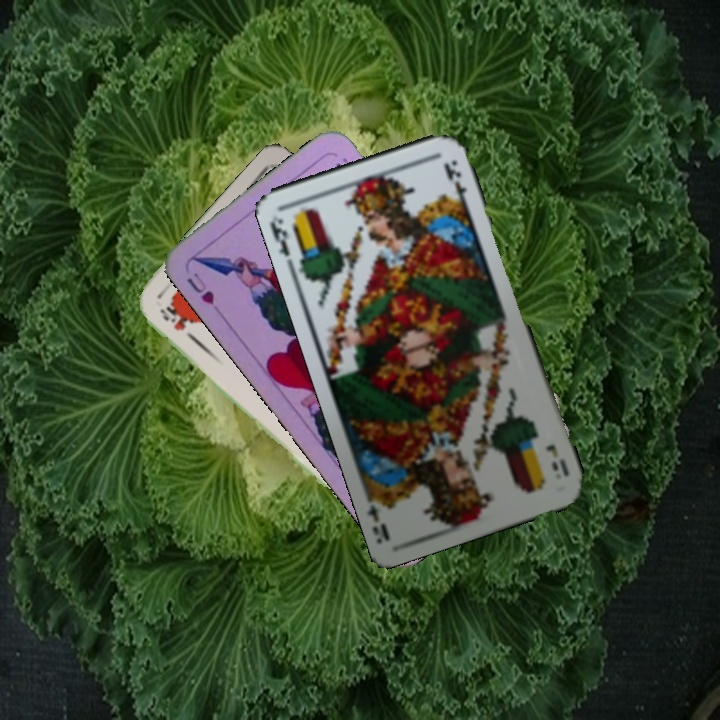EK: (266, 211, 293, 259), (541, 440, 572, 480)
HO: (155, 302, 201, 346)
HU: (182, 268, 217, 308)
